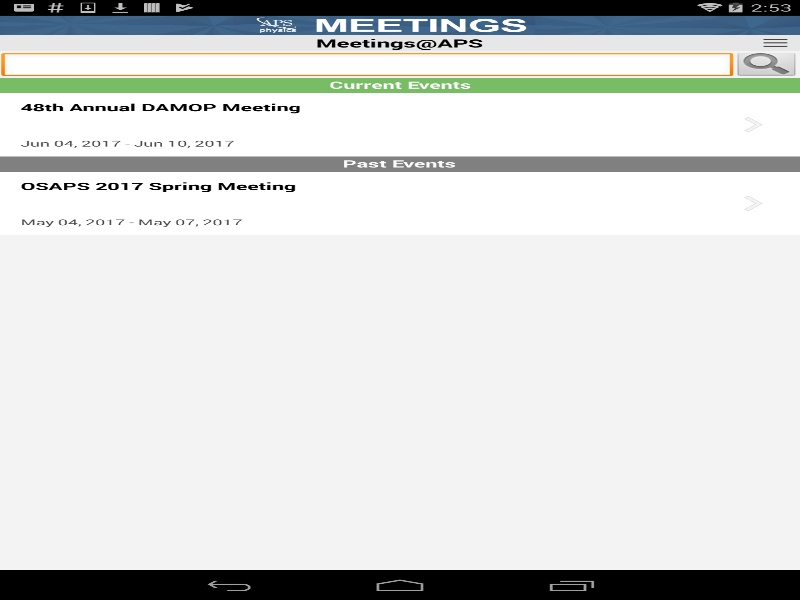Button: (733, 52, 800, 78), (751, 35, 800, 50), (0, 35, 47, 50)
Input: (1, 52, 733, 78)
